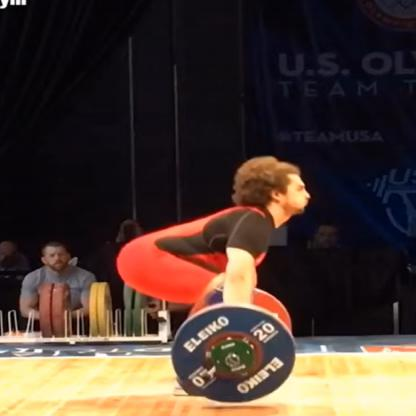Barbell: (166, 301, 300, 409)
